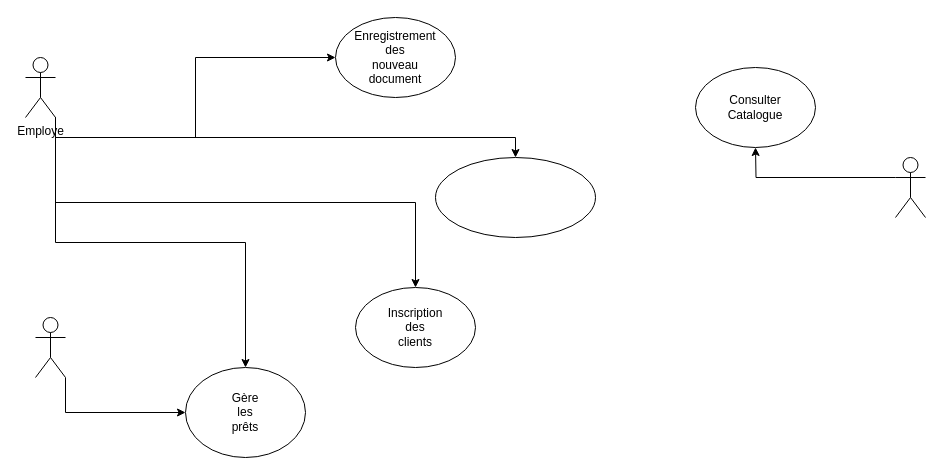
Image size: 943x475. Some labels were removed from this diagram. Each missing label, with the centre of its shape:
Bénévoles: point 50,347
Client: point 910,187
Consulter état Client: point 515,197
